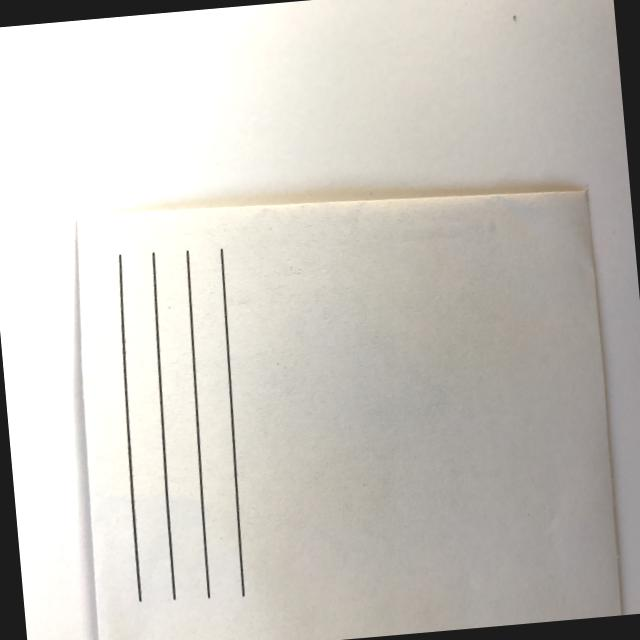Paper: (60, 164, 628, 640)
